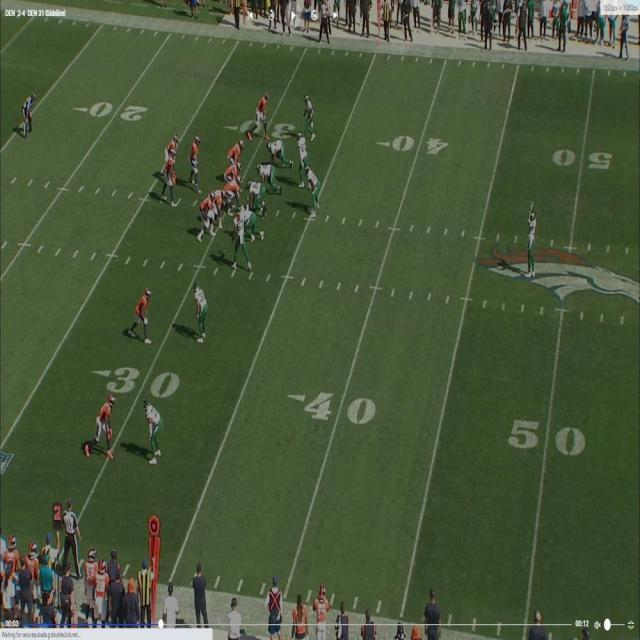center: (229, 172, 245, 208)
db: (196, 282, 209, 340), (145, 402, 160, 452), (528, 210, 536, 279), (304, 94, 316, 132)
lb: (231, 206, 250, 268), (306, 167, 321, 217), (296, 128, 306, 164)
qb: (164, 148, 176, 205)
skill: (132, 284, 152, 336), (94, 394, 115, 443), (166, 132, 180, 176), (253, 92, 269, 130), (190, 139, 200, 193)
